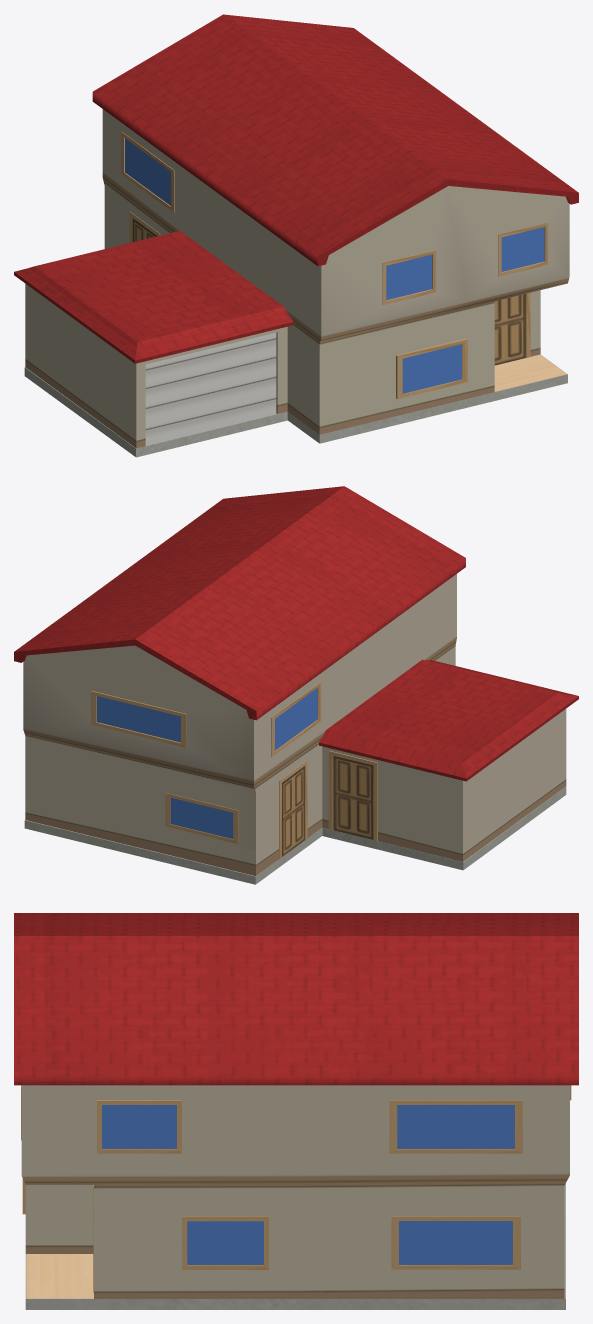
Rendered from House_007.fbx.
3 views of the same model, one above another, from view 1: azimuth 30°, elevation 25°; view 2: azimuth 150°, elevation 25°; view 3: azimuth 270°, elevation 25° (orthographic). The views are drawn at different scales.
Parts seen in each view (by area): view 1: House_007, GarashDoor, Windows, Door_01; view 2: House_007, Windows, Door_03, Door_02; view 3: House_007, Windows.
Part boxes in pixels (x1=…): House_007: x1=14, y1=14, x2=578, y2=457; GarashDoor: x1=145, y1=332, x2=276, y2=445; Windows: x1=125, y1=138, x2=544, y2=393; Door_01: x1=494, y1=294, x2=525, y2=365; House_007: x1=14, y1=486, x2=578, y2=884; Windows: x1=97, y1=688, x2=317, y2=838; Door_03: x1=333, y1=756, x2=373, y2=839; Door_02: x1=282, y1=766, x2=304, y2=856; House_007: x1=14, y1=913, x2=578, y2=1309; Windows: x1=102, y1=1105, x2=514, y2=1264.
Bounding box in the file's own units: 65.57 × 36.07 × 61.89.
